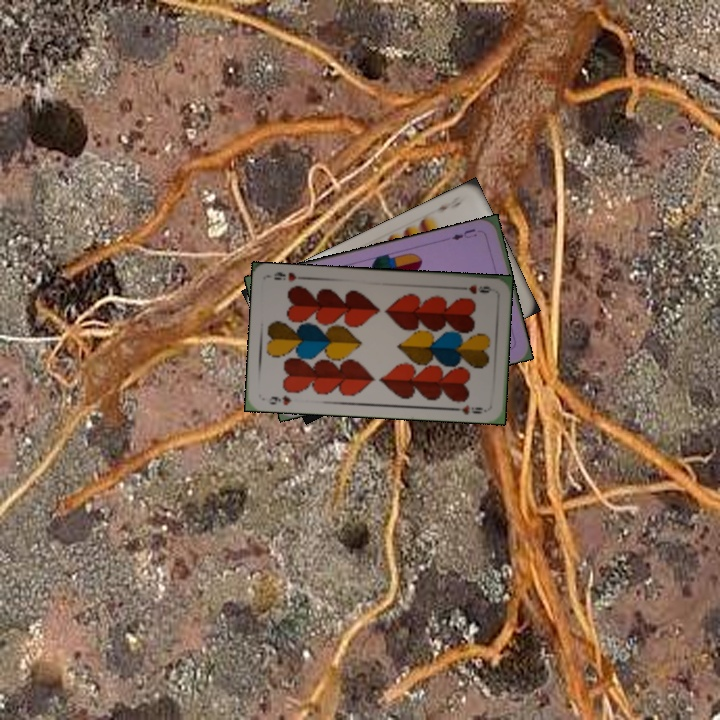E9: (429, 192, 467, 214)
EU: (447, 225, 479, 243)
H9: (455, 281, 495, 296), (262, 391, 294, 408)
